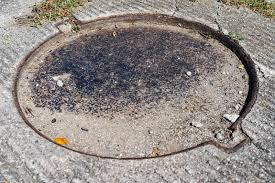Manhole-Closed: (13, 8, 263, 164)
